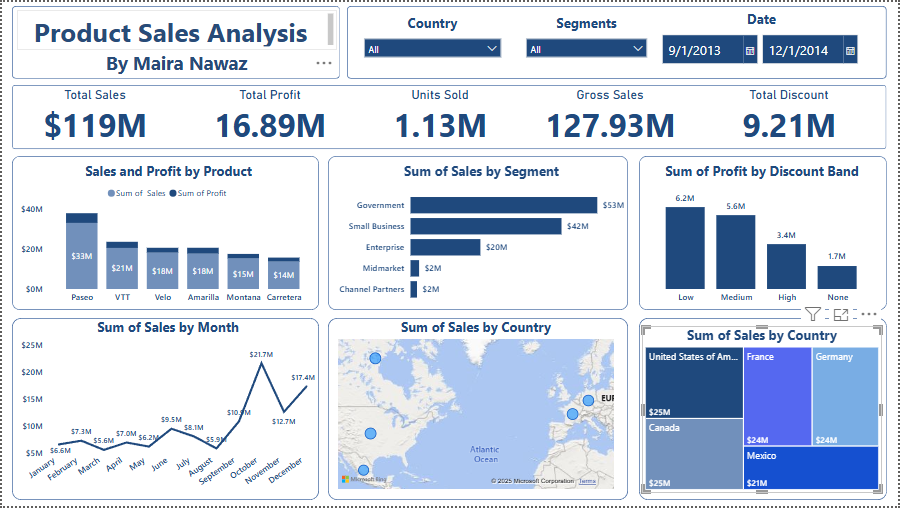

Layout of this report page (visuals, bound fields, positions):
{"tool":"powerbi","page":{"name":"Page 2","canvas":[1280,720],"ordinal":1},"visuals":[{"type":"shape","box":[14.6,6.2,468.5,103.8],"z":0},{"type":"textbox","box":[21.5,11.5,456.9,56.9],"z":1000},{"type":"textbox","box":[94.6,63.1,310,55.4],"z":2000},{"type":"shape","box":[493.1,6.2,770.8,103.8],"z":3000},{"type":"shape","box":[14.6,118.5,1249.2,91.5],"z":4000},{"type":"shape","box":[14.3,220,438.6,220],"z":5000},{"type":"shape","box":[465.7,220,428.6,220],"z":6000},{"type":"shape","box":[910,220,354.3,220],"z":7000},{"type":"shape","box":[14.3,451.4,438.6,260],"z":8000},{"type":"shape","box":[910,451.4,354.3,260],"z":9000},{"type":"shape","box":[465.7,451.4,428.6,260],"z":10000},{"type":"slicer","title":"Date","fields":{"Values":["financials.Date"]},"box":[930,11.4,310,88.6],"z":11000},{"type":"slicer","title":"Segments","fields":{"Values":["financials.Segment"]},"box":[739,17.1,192.9,88],"z":12000},{"type":"slicer","title":"Country","fields":{"Values":["financials.Country"]},"box":[507.1,17.1,215.7,82.9],"z":13000},{"type":"card","title":"Total Sales","fields":{"Values":["Sum(financials. Sales)"]},"box":[0,121.4,265.7,85.7],"z":14000},{"type":"card","title":"Total Profit","fields":{"Values":["Sum(financials.Profit)"]},"box":[250,121.4,265.7,85.7],"z":15000},{"type":"card","title":"Units Sold","fields":{"Values":["Sum(financials.Units Sold)"]},"box":[492.9,121.4,265.7,85.7],"z":16000},{"type":"card","title":"Gross Sales","fields":{"Values":["Sum(financials.Gross Sales)"]},"box":[735.7,121.4,265.7,85.7],"z":17000},{"type":"card","title":"Total Discount","fields":{"Values":["financials.Total Discounts"]},"box":[991.4,121.4,265.7,85.7],"z":18000},{"type":"treemap","fields":{"Group":["financials.Country"],"Values":["Sum(financials. Sales)"]},"box":[914.3,462.9,342.9,238.6],"z":19000},{"type":"lineChart","fields":{"Y":["Sum(financials. Sales)"],"Category":["financials.Date.Variation.Date Hierarchy.Month"]},"box":[21.4,451.4,431.4,260],"z":20000},{"type":"map","fields":{"Category":["financials.Country"],"Size":["Sum(financials. Sales)"]},"box":[475.7,451.4,402.9,250],"z":21000},{"type":"columnChart","title":"Sales and Profit by Product","fields":{"Category":["financials.Product"],"Y":["Sum(financials. Sales)","Sum(financials.Profit)"]},"box":[21.4,228.6,432.9,211.4],"z":22000},{"type":"barChart","fields":{"Category":["financials.Segment"],"Y":["Sum(financials. Sales)"]},"box":[475.7,228.6,418.6,211.4],"z":23000},{"type":"columnChart","fields":{"Category":["financials.Discount Band"],"Y":["Sum(financials.Profit)"]},"box":[914.3,228.6,342.9,211.4],"z":24000}]}

Visuals, with their boxes in screenshot pixels (x1, y1, x2, y2), scaled from the page's 1280x720 canvas onto the 900x508 screenshot:
shape: 10/4/340/78
textbox: 15/8/336/48
textbox: 67/45/284/84
shape: 347/4/889/78
shape: 10/84/889/148
shape: 10/155/318/310
shape: 327/155/629/310
shape: 640/155/889/310
shape: 10/318/318/502
shape: 640/318/889/502
shape: 327/318/629/502
"Date" slicer: 654/8/872/71
"Segments" slicer: 520/12/655/74
"Country" slicer: 357/12/508/71
"Total Sales" card: 0/86/187/146
"Total Profit" card: 176/86/363/146
"Units Sold" card: 347/86/533/146
"Gross Sales" card: 517/86/704/146
"Total Discount" card: 697/86/884/146
treemap - financials.Country x Sum(financials. Sales): 643/327/884/495
lineChart - Sum(financials. Sales) x financials.Date.Variation.Date Hierarchy.Month: 15/318/318/502
map - financials.Country x Sum(financials. Sales): 334/318/618/495
"Sales and Profit by Product" columnChart: 15/161/319/310
barChart - financials.Segment x Sum(financials. Sales): 334/161/629/310
columnChart - financials.Discount Band x Sum(financials.Profit): 643/161/884/310
